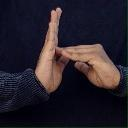hand: (55, 43, 120, 90), (34, 6, 69, 93)
